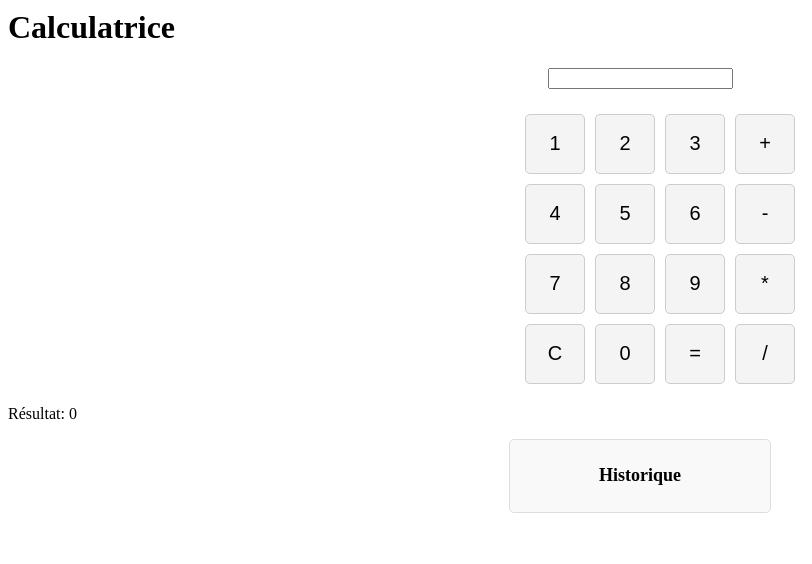
Calculatrice › Effectue une multiplication
Click the button with test id "4": (555, 214) [525,184,585,244]
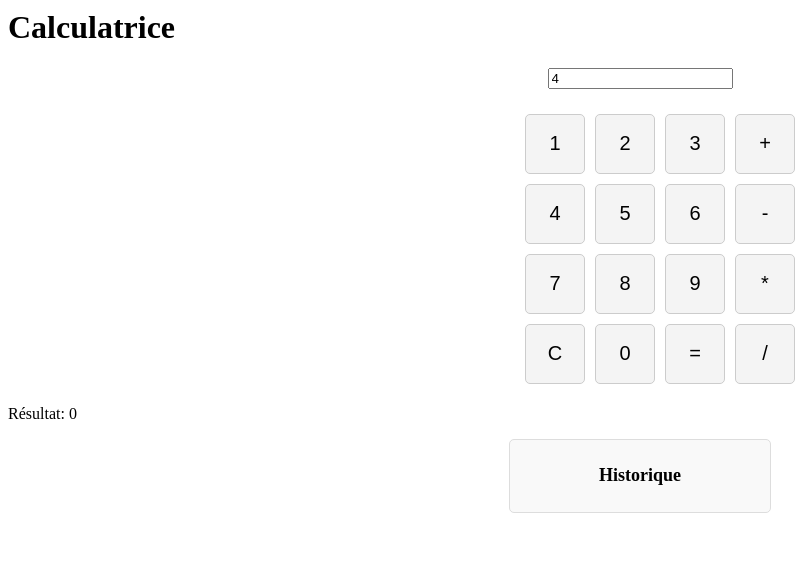
Click the button with test id "multiplication": (765, 284) [735,254,795,314]
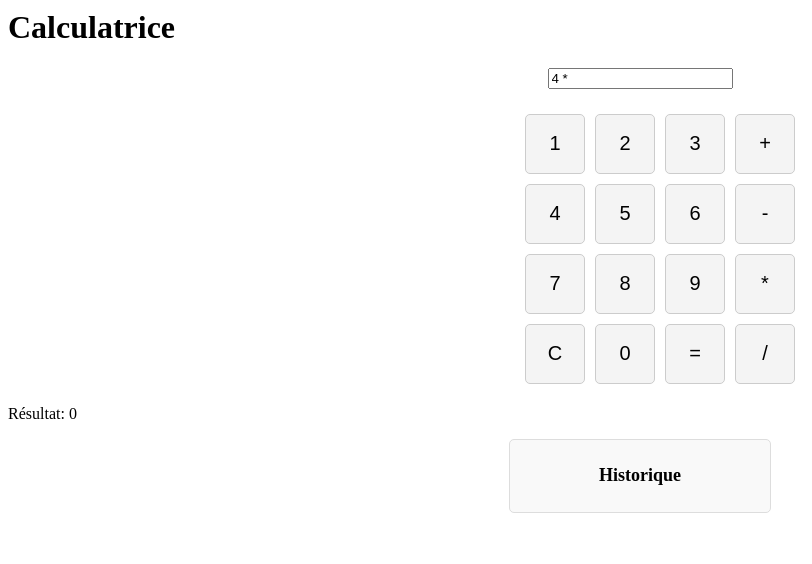
Click the button with test id "6": (695, 214) [665,184,725,244]
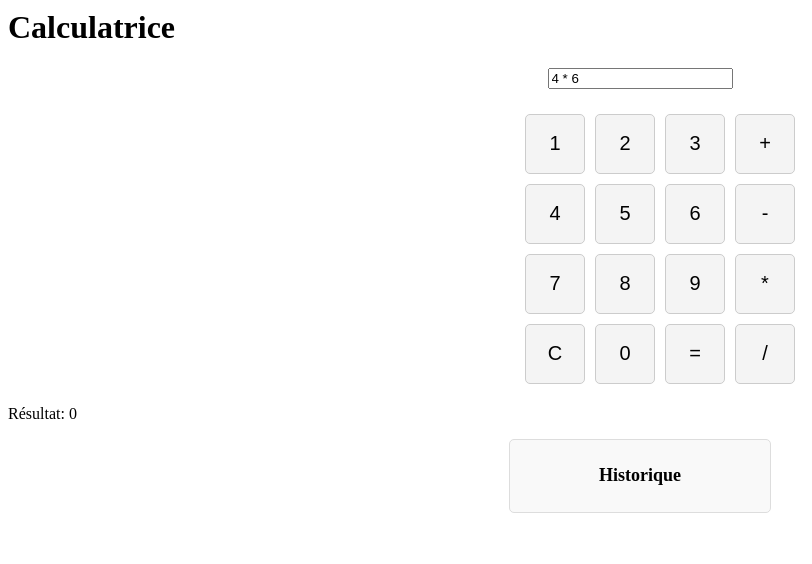
Click the button with test id "egal": (695, 354) [665,324,725,384]
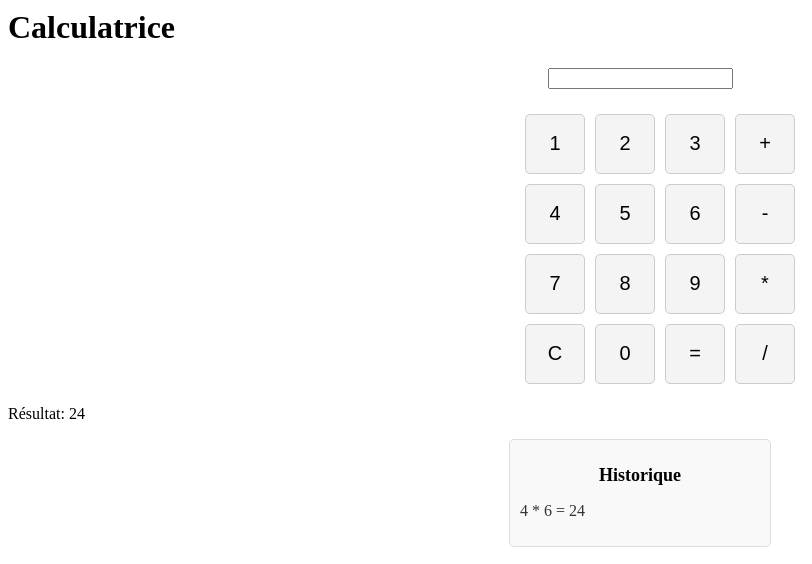
Expected: the text with test id "result" reads "24", [69,405,85,422]
Expected: the list item with test id "historique" reads "4 * 6 = 24", [520,502,585,519]
